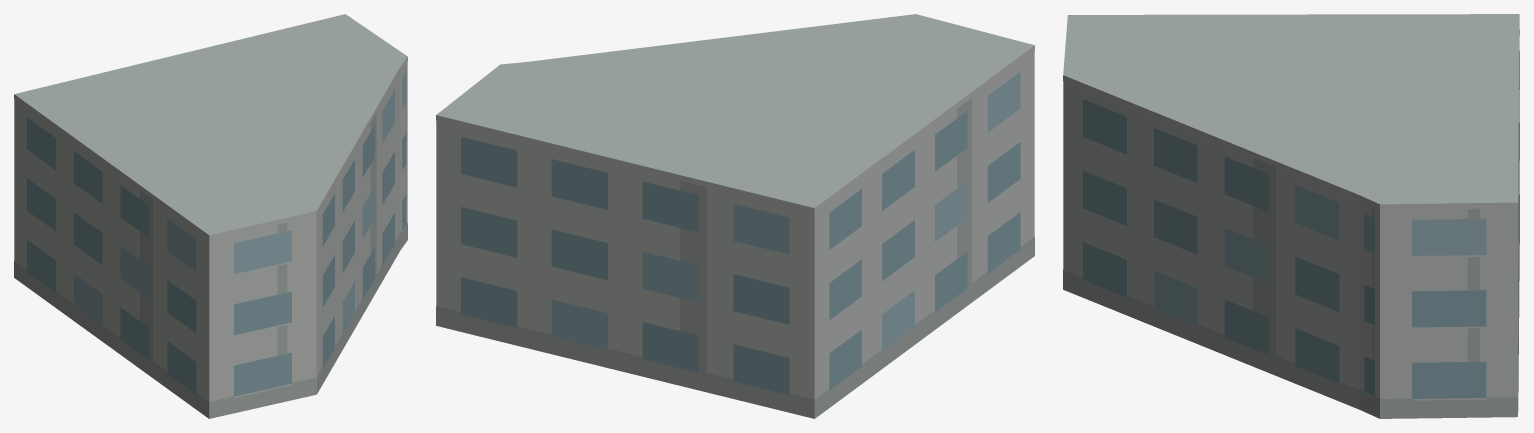
File: survey-upis-32749276.glb
3 renders of one model, left to right at view 1: azimuth 30°, elevation 25°; view 2: azimuth 150°, elevation 25°; view 3: azimuth 270°, elevation 25°, orthographic. The views are drawn at different scales.
Visible parts, largest first — view 1: survey-upis-32749276.tmp; view 2: survey-upis-32749276.tmp; view 3: survey-upis-32749276.tmp.
Boxes of the visible parts, bbox=[...] form: survey-upis-32749276.tmp: bbox=[14, 14, 407, 418]; survey-upis-32749276.tmp: bbox=[436, 14, 1034, 418]; survey-upis-32749276.tmp: bbox=[1063, 14, 1519, 418].
Size of the model in its own units: 17.42 by 9.15 by 17.66.
